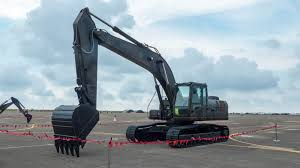excavator: (52, 9, 234, 157)
